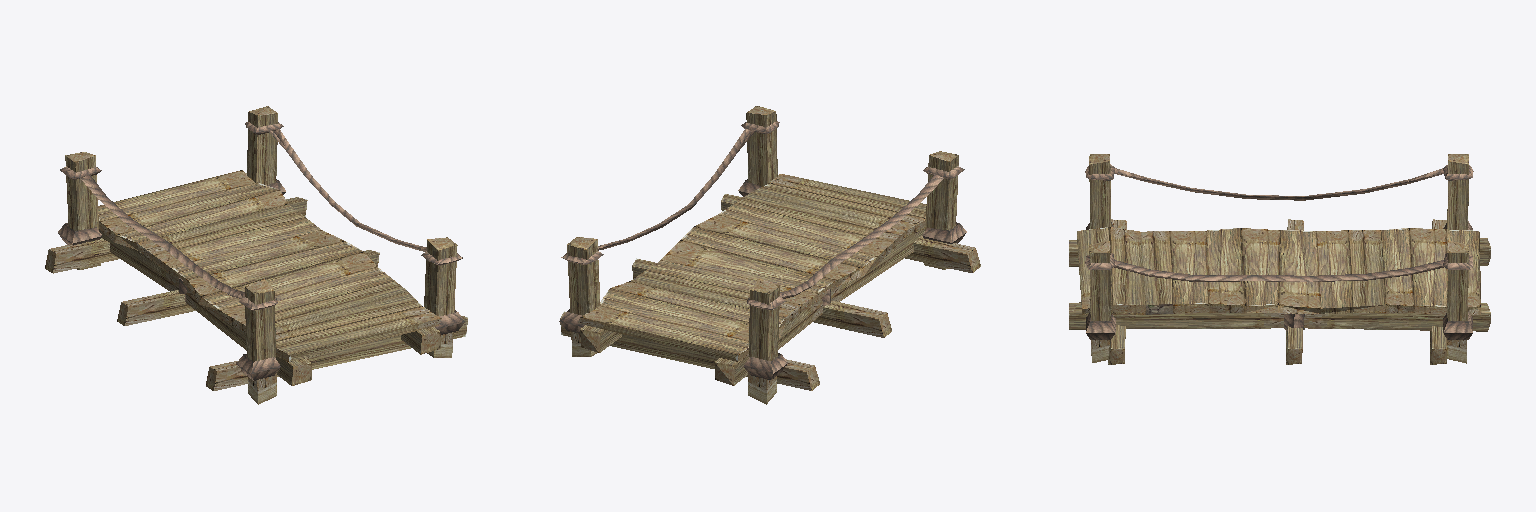
3 views of the same model, side by side, from view 1: azimuth 30°, elevation 25°; view 2: azimuth 150°, elevation 25°; view 3: azimuth 270°, elevation 25° (orthographic).
Visible parts, largest first — view 1: Node 0; view 2: Node 0; view 3: Node 0.
Part boxes in pixels (bbox=[...]): Node 0: bbox=[45, 106, 467, 404]; Node 0: bbox=[559, 106, 980, 404]; Node 0: bbox=[1069, 154, 1490, 364].
Size of the model in its own units: 7.51 by 3.24 by 10.75.
2 materials, 2 textured.